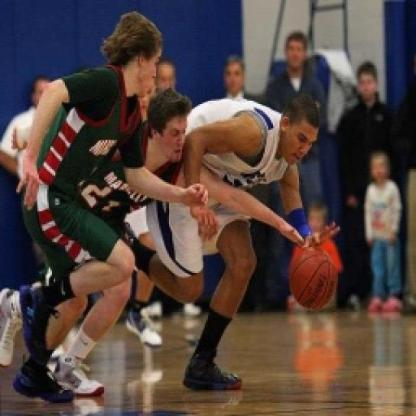basketball: (283, 243, 342, 316)
